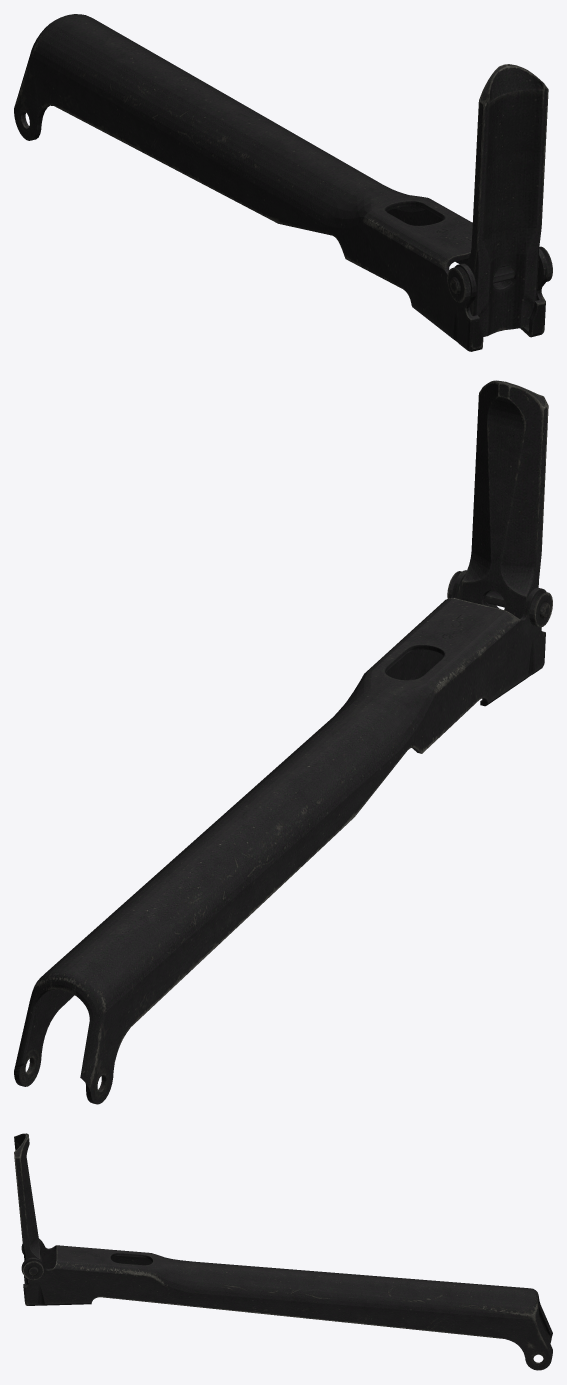
3 views of the same model, one above another, from view 1: azimuth 30°, elevation 25°; view 2: azimuth 150°, elevation 25°; view 3: azimuth 270°, elevation 25° (orthographic). The views are drawn at different scales.
Parts seen in each view (by area): view 1: TW_6451167ad4928d46d30be3fd_PZ_Import; view 2: TW_6451167ad4928d46d30be3fd_PZ_Import; view 3: TW_6451167ad4928d46d30be3fd_PZ_Import.
Part boxes in pixels (x1,y1,x2,y2): TW_6451167ad4928d46d30be3fd_PZ_Import: (14,14,552,351); TW_6451167ad4928d46d30be3fd_PZ_Import: (14,380,552,1104); TW_6451167ad4928d46d30be3fd_PZ_Import: (14,1133,552,1370).
Bounding box in the file's own units: 0.0165 × 0.1418 × 0.0652.
1 material, 1 textured.
